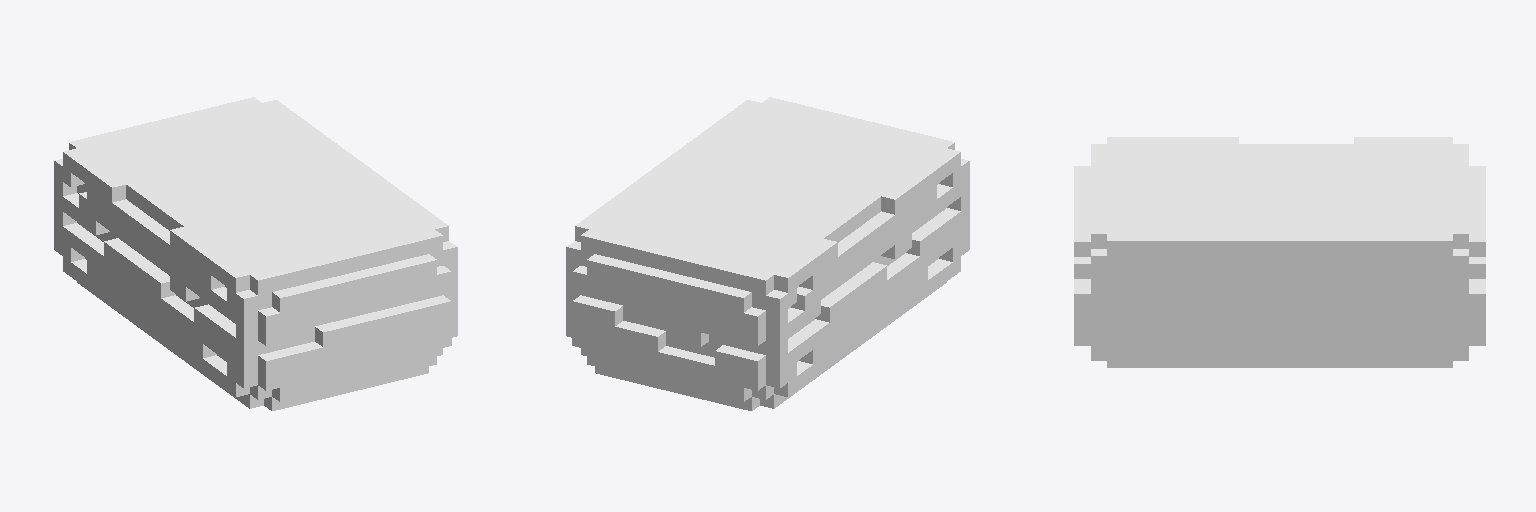
The model's file is Chest_Body.obj.
3 renders of one model, left to right at view 1: azimuth 30°, elevation 25°; view 2: azimuth 150°, elevation 25°; view 3: azimuth 270°, elevation 25°, orthographic.
Parts seen in each view (by area): view 1: object 1; view 2: object 1; view 3: object 1.
Part boxes in pixels (bbox=[...]): object 1: bbox=[54, 97, 457, 410]; object 1: bbox=[566, 97, 969, 410]; object 1: bbox=[1074, 137, 1485, 367].
Bounding box in the file's own units: 1.5 × 0.9 × 2.5.